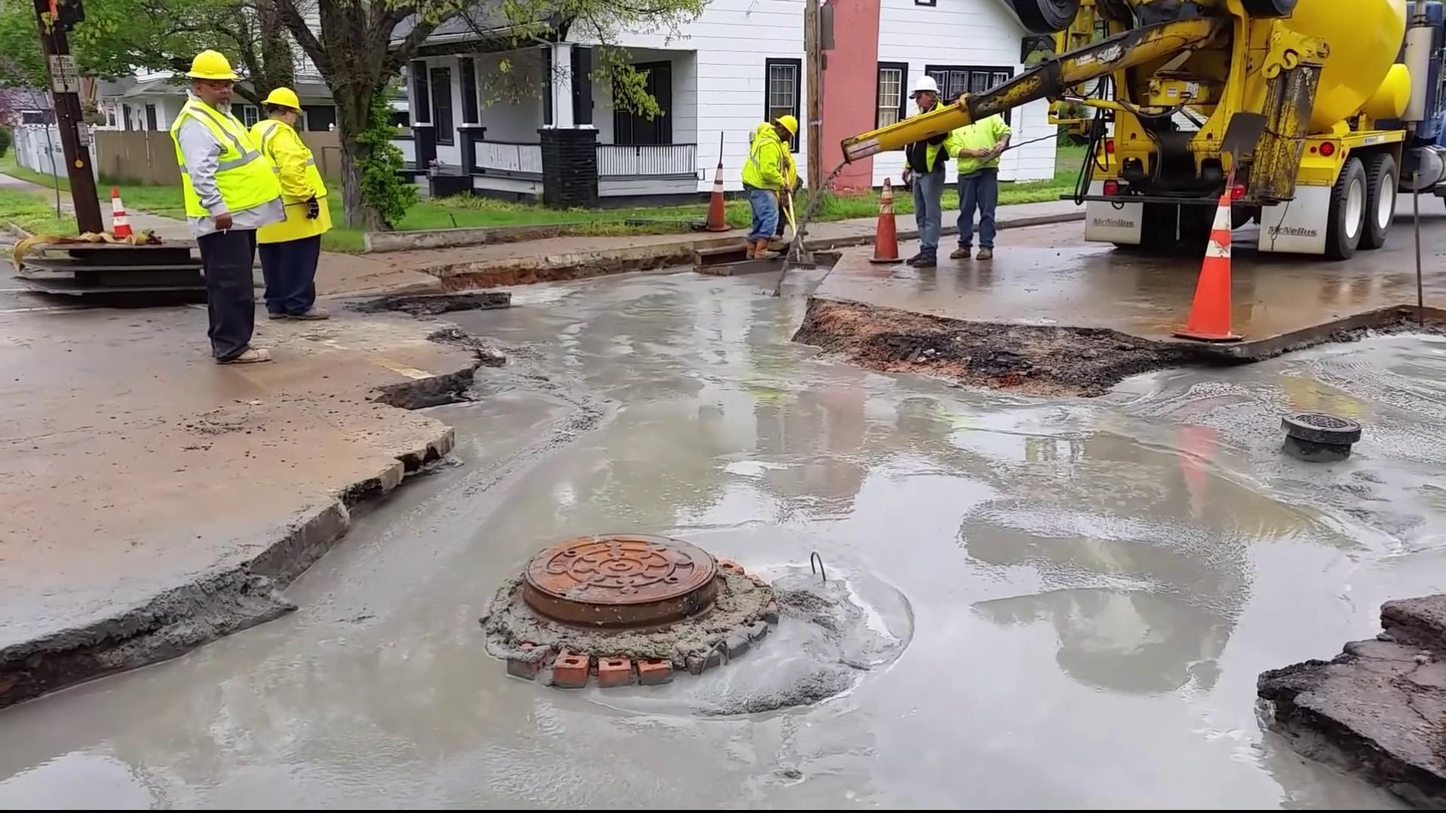apron: (299, 198, 328, 223)
